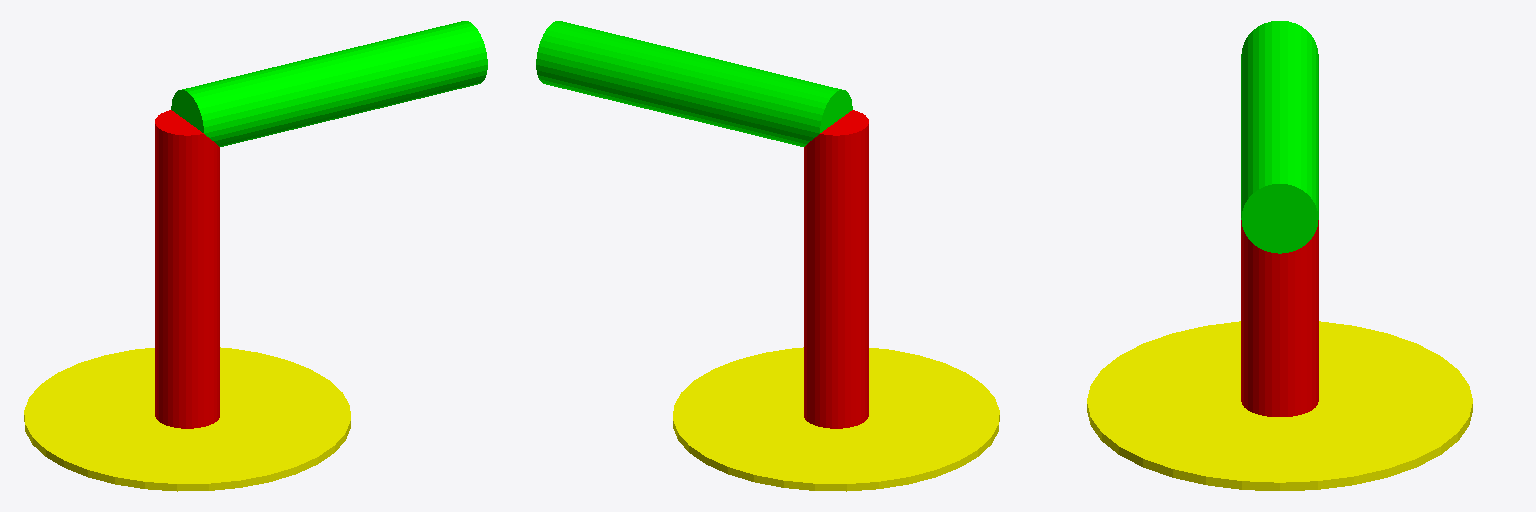
URDF robot description (simple_robot):
<robot name="simple_robot"> <!-- robot name- you decide -->
<!-- sequence : link-joint-link-joint-...-link... -->
<!-- units: meters for distance,rad in case of angles -->
<!-- first link called base_link -->
<link name= "base_link">
	<visual>
		<geometry>
			<cylinder length="0.01" radius="0.2"/>
		</geometry>
		<origin rpy="0 0 0" xyz="0 0 0"/> <!-- rpy: roll pitch yaw -> orientation xyz -> position --> 
		<material name= "base_color">
			<color rgba="1 1 0 1"/> 
		</material>
	</visual>

</link>
<!-- first joint-->
<joint name="joint1" type= "revolute"> <!-- types: revolute and prismatic -->
	<parent link="base_link"/>
	<child link="link1"/>
	<origin xyz ="0 0 0"/>
	<axis xyz="0 0 1"/>
	<limit effort="300" velocity="0.1" lower="-3.14159" upper="3.14159"/>
	<dynamics damping="50" friction="1"/>

</joint>
<!-- link1-->
<link name= "link1">
	<visual>
		<geometry>
			<cylinder length="0.4" radius="0.04"/>
		</geometry>
		<origin rpy="0 0 0" xyz="0 0 0.2"/> <!-- rpy: roll pitch yaw -> orientation xyz -> position --> 
		<material name= "link1_color">
			<color rgba="1 0 0 1"/> 
		</material>
	</visual>

</link>


<!-- second joint-->
<joint name="joint2" type= "revolute"> <!-- types: revolute and prismatic -->
	<parent link="link1"/>
	<child link="link2"/>
	<origin xyz ="0 0 0.4"/>
	<axis xyz="0 1 0"/>
	<limit effort="300" velocity="0.1" lower="-3.14159" upper="3.14159"/>
	<dynamics damping="50" friction="1"/>

</joint>
<!-- link2-->
<link name= "link2">
	<visual>
		<geometry>
			<cylinder length="0.4" radius="0.04"/>
		</geometry>
		<origin rpy="0 1.5707 0" xyz="0.2 0 0"/> <!-- rpy: roll pitch yaw -> orientation xyz -> position --> 
		<material name= "link2_color">
			<color rgba="0 1 0 1"/> 
		</material>
	</visual>

</link>

<!-- third joint-->
<joint name="joint3" type= "fixed"> <!-- types: revolute and prismatic -->
	<parent link="link2"/>
	<child link="link3"/>
	<origin xyz ="0.4 0 0"/>
	<axis xyz="0 -1 0"/>
	<limit effort="300" velocity="0.1" lower="-3.14159" upper="3.14159"/>
	<dynamics damping="50" friction="1"/>

</joint>

<!-- link3-->
<link name= "link3">
	<visual>
		<geometry>
			<cylinder length="0.0" radius="0.0"/>
		</geometry>
		<origin rpy="0 1.5707 0" xyz="0.0 0 0"/> <!-- rpy: roll pitch yaw -> orientation xyz -> position --> 
		<material name= "link3_color">
			<color rgba="0 1 0 1"/> 
		</material>
	</visual>

</link>

</robot>

--- Render facts (derived) ---
The picture shows the robot from 3 angles, left to right: view 1: azimuth 30°, elevation 25°; view 2: azimuth 150°, elevation 25°; view 3: azimuth 270°, elevation 25°; orthographic projection.
Robot: simple_robot — 4 links, 3 joints (2 revolute, 1 fixed); root link base_link; default pose: all joints at 0.
Visible links, largest first — view 1: base_link, link2, link1; view 2: base_link, link2, link1; view 3: base_link, link2, link1.
Boxes of the visible links, x1,y1,x2,y2 form: base_link: (24, 347, 350, 491); link2: (171, 21, 487, 146); link1: (155, 110, 219, 428); base_link: (673, 347, 999, 491); link2: (536, 21, 852, 146); link1: (804, 110, 868, 428); base_link: (1087, 321, 1472, 490); link2: (1241, 21, 1318, 253); link1: (1241, 220, 1318, 416).
Bounding box of the posed robot: 0.6 × 0.4 × 0.445 m (x, y, z).
Geometry: primitives only (box / cylinder / sphere), no mesh files.